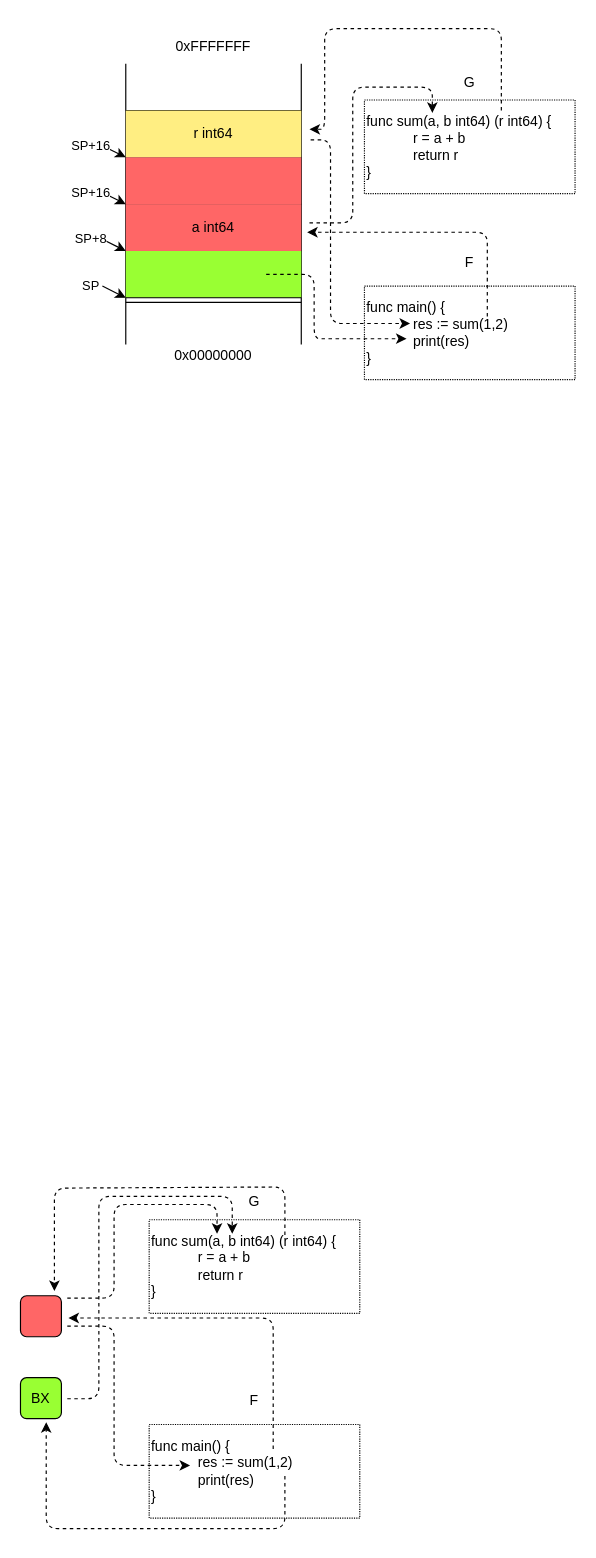
The diagram is 596 pixels wide and 1558 high, and some of its shapes have lost their labels. The box of each missing label's shape, as (x1, y1, x2, y2) in pixels:
AX: (19, 1295, 61, 1337)
b int64: (125, 157, 301, 204)
return adresss: (125, 250, 301, 297)
